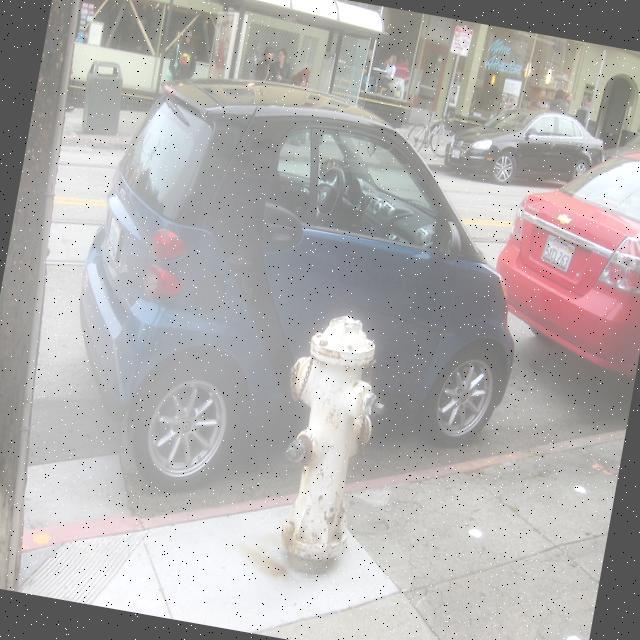fire_hydrant: (255, 304, 400, 582)
